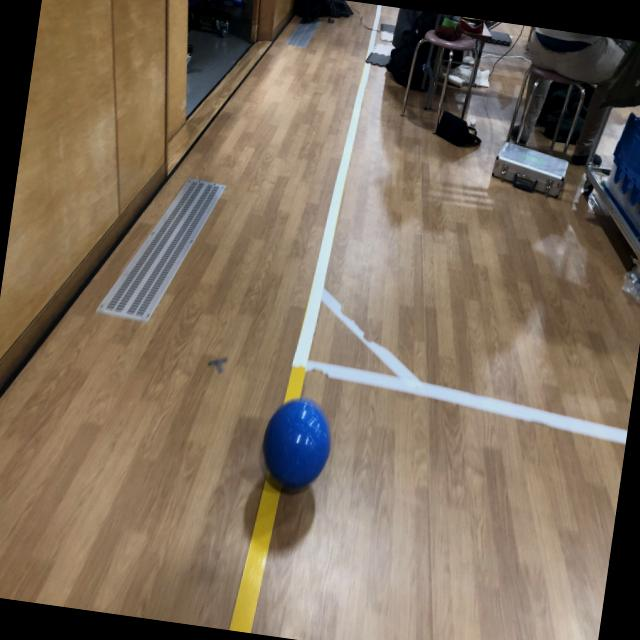blue_ball: (257, 394, 335, 497)
